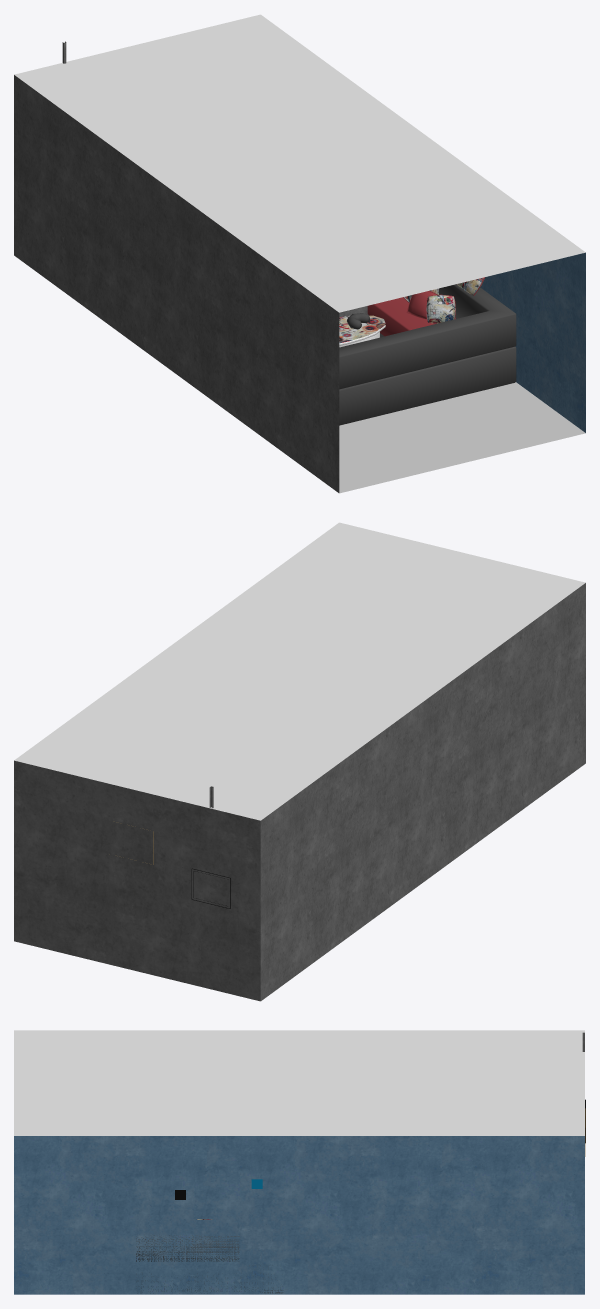
File: Salon.fbx
The picture shows the model from 3 angles, top to bottom: view 1: azimuth 30°, elevation 25°; view 2: azimuth 150°, elevation 25°; view 3: azimuth 270°, elevation 25°; orthographic projection. The views are drawn at different scales.
Parts seen in each view (by area): view 1: Walls, Sofa, Cube.100, Pillow 02, Sofa Table Top; view 2: Walls; view 3: Walls, Sofa.
Boxes of the visible parts, x1,y1,x2,y2 form: Walls: [14, 14, 585, 493]; Sofa: [339, 284, 516, 425]; Cube.100: [367, 297, 455, 336]; Pillow 02: [426, 294, 455, 323]; Sofa Table Top: [339, 315, 385, 343]; Walls: [14, 522, 585, 1001]; Walls: [14, 1030, 584, 1294]; Sofa: [136, 1235, 282, 1293].
Bounding box in the file's own units: 10 × 7.86 × 22.87.
